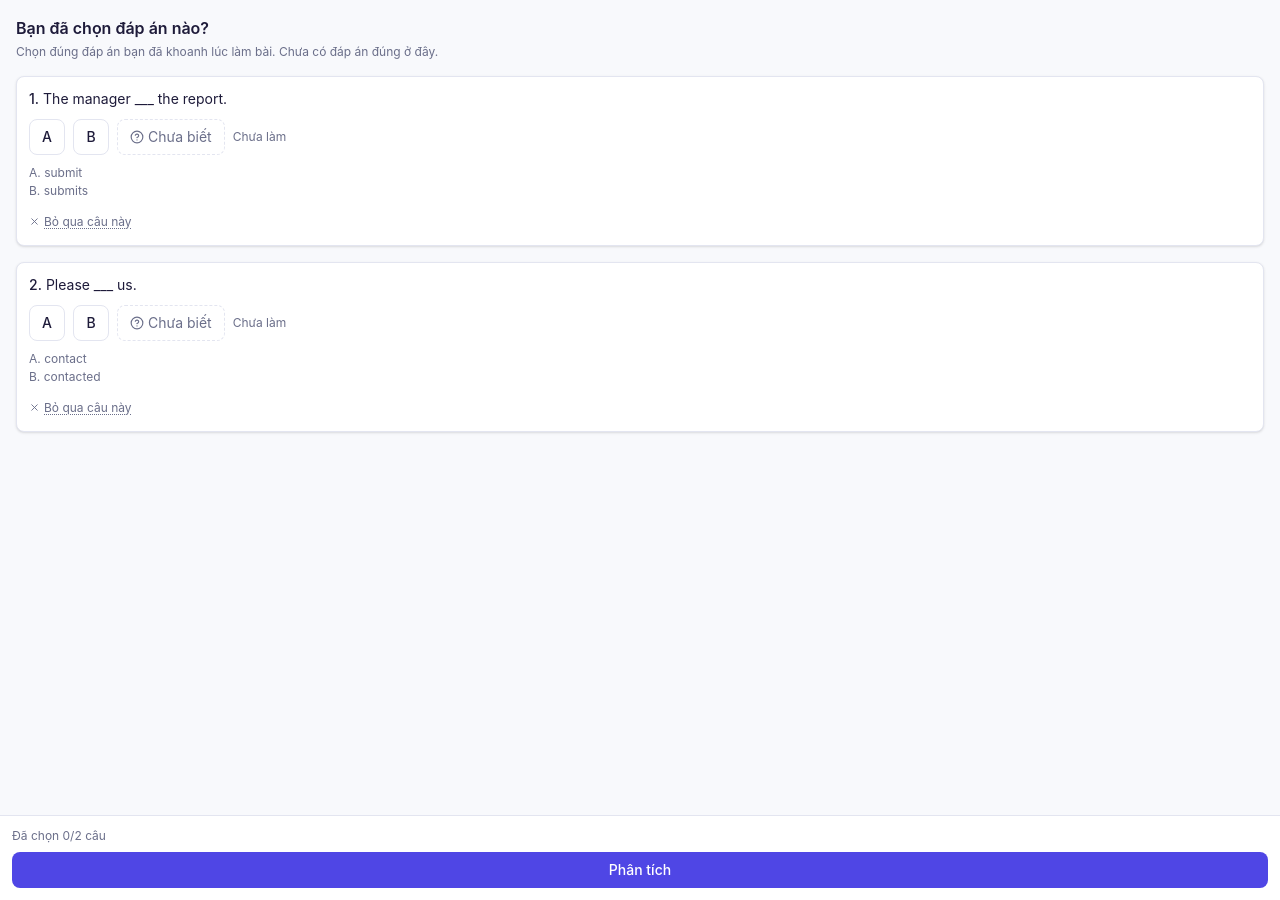
Review hints › shows a hint under the question and sends earlier hints on the next click
Click the button "Chưa biết" below "The manager ___ the report." at (171, 137), box x1=117 y1=119 x2=225 y2=155
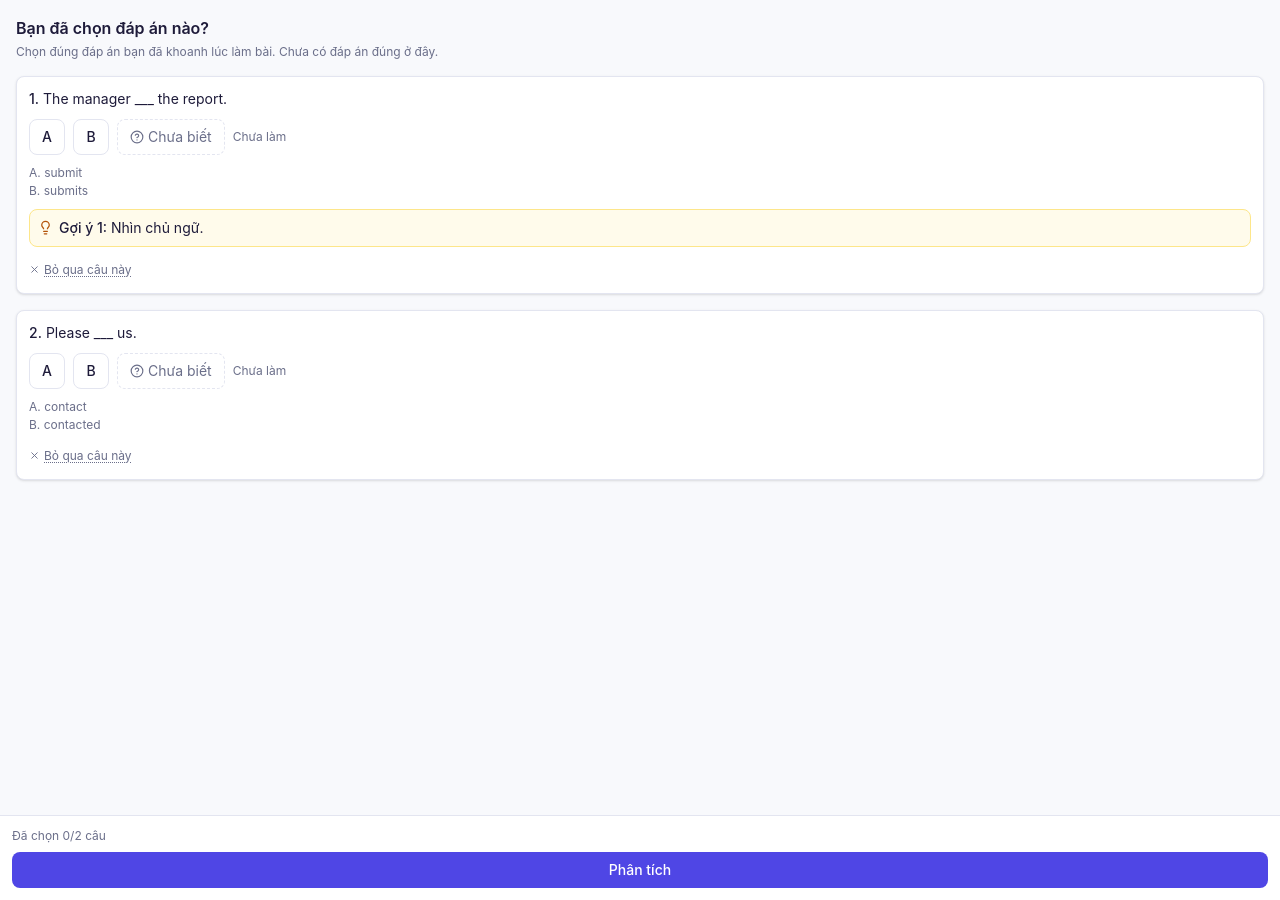
Now the text "Nhìn chủ ngữ." is shown, box x1=111 y1=219 x2=203 y2=236
Click the button "Chưa biết" below "The manager ___ the report." at (171, 137), box x1=117 y1=119 x2=225 y2=155
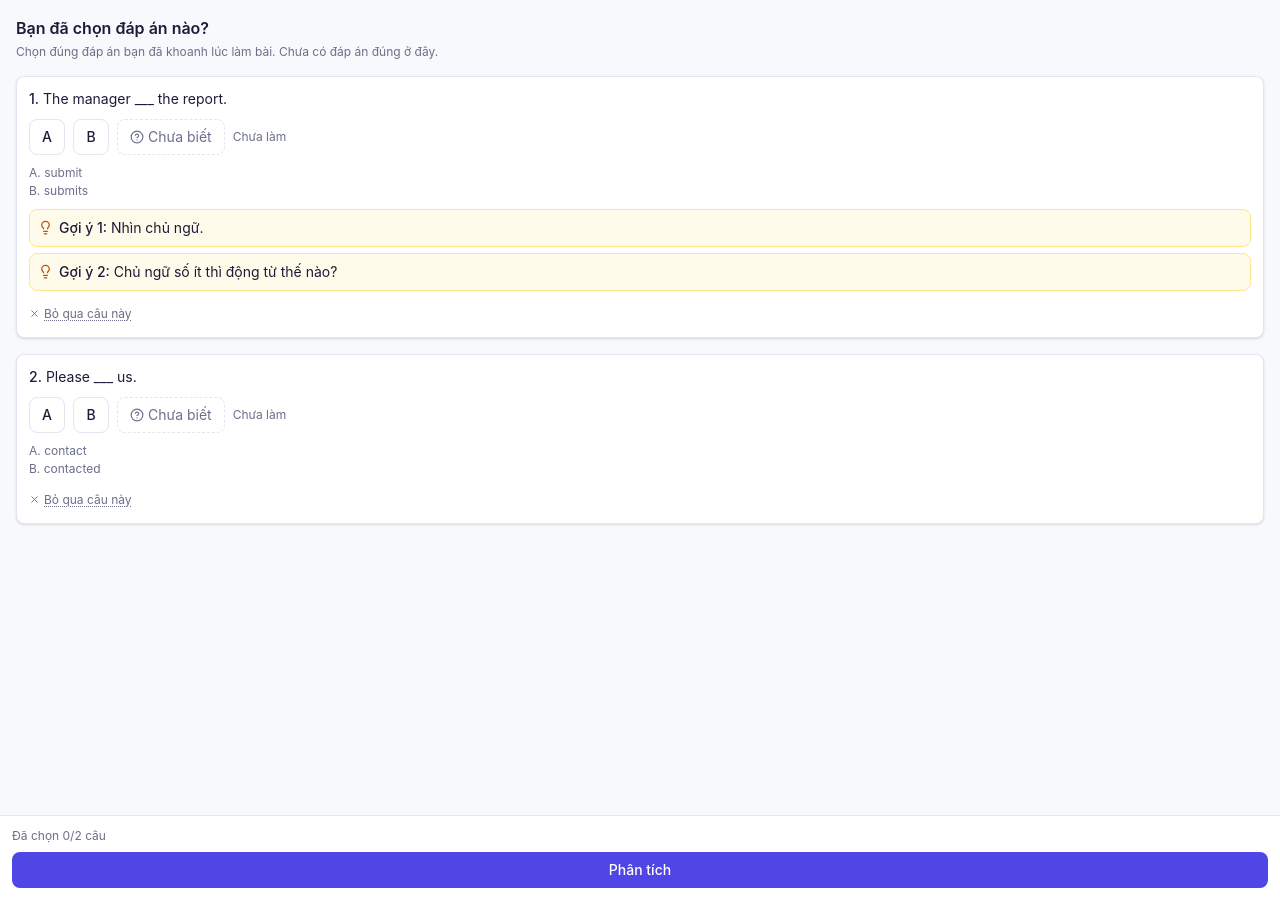
Now the text "Nhìn chủ ngữ." is shown, box x1=111 y1=219 x2=203 y2=236
Now the text "Chủ ngữ số ít thì động từ thế nào?" is shown, box x1=114 y1=263 x2=337 y2=280
